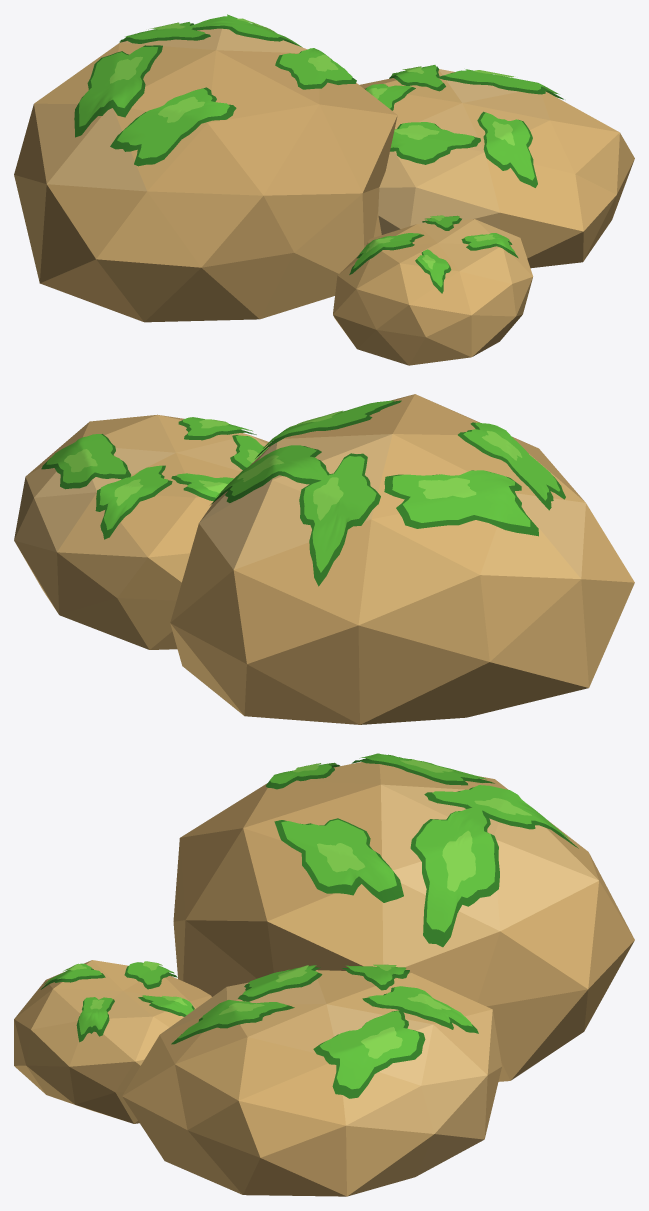
The model's file is rock_7_rim.glb.
3 renders of one model, top to bottom at view 1: azimuth 30°, elevation 25°; view 2: azimuth 150°, elevation 25°; view 3: azimuth 270°, elevation 25°, orthographic. The views are drawn at different scales.
Visible parts, largest first — view 1: rock_7_rim; view 2: rock_7_rim; view 3: rock_7_rim.
Boxes of the visible parts, x1,y1,x2,y2 form: rock_7_rim: [14, 14, 634, 365]; rock_7_rim: [14, 394, 634, 724]; rock_7_rim: [14, 753, 634, 1196].
Bounding box in the file's own units: 2.57 × 1.02 × 2.29.
